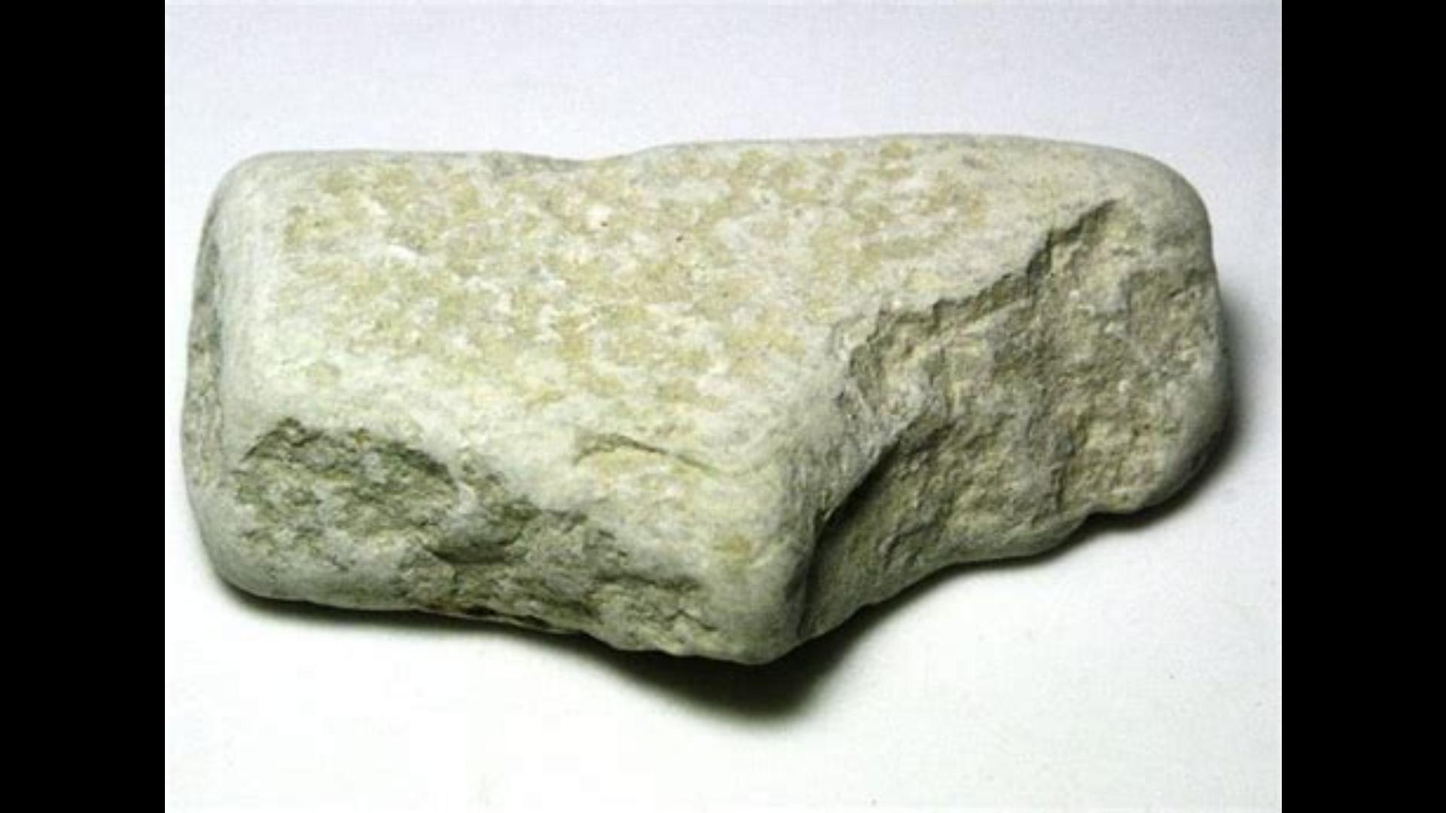rock: (190, 137, 1227, 660)
